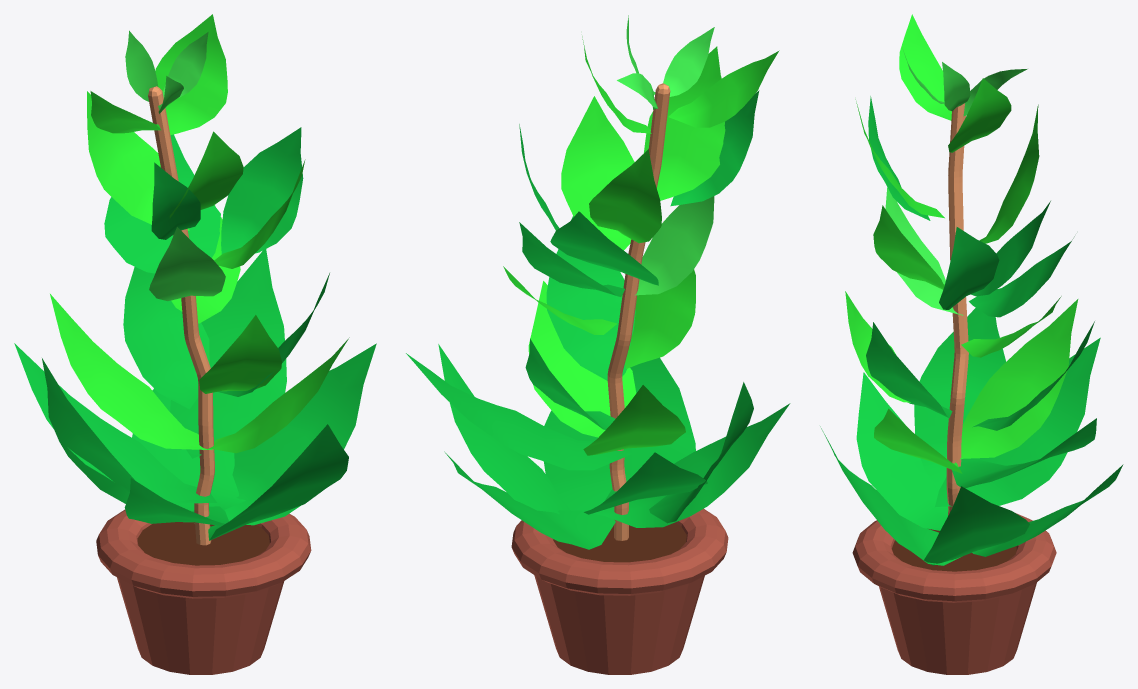
File: plant3.gltf
The picture shows the model from 3 angles, left to right: view 1: azimuth 30°, elevation 25°; view 2: azimuth 150°, elevation 25°; view 3: azimuth 270°, elevation 25°; orthographic projection. The views are drawn at different scales.
Visible parts, largest first — view 1: Cylinder, Torus, BezierCurve.023, BezierCurve.019, BezierCurve.018, BezierCurve.000, BezierCurve.003, BezierCurve.016, BezierCurve.004, Cube, BezierCurve.021, BezierCurve.022 (+16 smaller); view 2: Cylinder, Torus, BezierCurve.021, BezierCurve.019, BezierCurve.011, BezierCurve.005, BezierCurve.009, BezierCurve.020, BezierCurve.017, BezierCurve.023, Cube, BezierCurve.013 (+16 smaller); view 3: Cylinder, BezierCurve.018, Torus, BezierCurve.016, BezierCurve.020, BezierCurve.015, Cube, BezierCurve.023, BezierCurve.001, BezierCurve.003, BezierCurve.021, BezierCurve.011 (+17 smaller).
Part boxes in pixels (x1,y1,x2,y2): Cylinder: (117, 577, 284, 674); Torus: (96, 509, 311, 598); BezierCurve.023: (194, 343, 376, 525); BezierCurve.019: (170, 249, 286, 458); BezierCurve.018: (50, 294, 212, 450); BezierCurve.000: (123, 267, 209, 409); BezierCurve.003: (221, 127, 303, 254); BezierCurve.016: (14, 343, 216, 503); BezierCurve.004: (87, 91, 189, 230); Cube: (148, 86, 214, 545); BezierCurve.021: (208, 424, 348, 540); BezierCurve.022: (155, 14, 227, 135); Cylinder: (534, 575, 704, 674); Torus: (511, 508, 728, 595); BezierCurve.021: (544, 357, 695, 510); BezierCurve.019: (406, 353, 632, 470); BezierCurve.011: (546, 216, 635, 380); BezierCurve.005: (643, 46, 725, 200); BezierCurve.009: (561, 96, 634, 250); BezierCurve.020: (593, 403, 790, 527); BezierCurve.017: (528, 281, 636, 437); BezierCurve.023: (438, 344, 570, 514); Cube: (607, 83, 670, 540); BezierCurve.013: (621, 196, 714, 296); Cylinder: (879, 582, 1036, 674); BezierCurve.018: (946, 299, 1078, 459); Torus: (852, 513, 1056, 602); BezierCurve.016: (935, 337, 1100, 506); BezierCurve.020: (856, 372, 948, 530); BezierCurve.015: (914, 308, 1005, 489); Cube: (946, 103, 968, 515); BezierCurve.023: (924, 486, 1029, 565); BezierCurve.001: (899, 14, 951, 120); BezierCurve.003: (939, 227, 999, 309); BezierCurve.021: (820, 426, 960, 565); BezierCurve.011: (866, 322, 952, 418).
Bounding box in the file's own units: 3.8 × 7.09 × 3.33.
